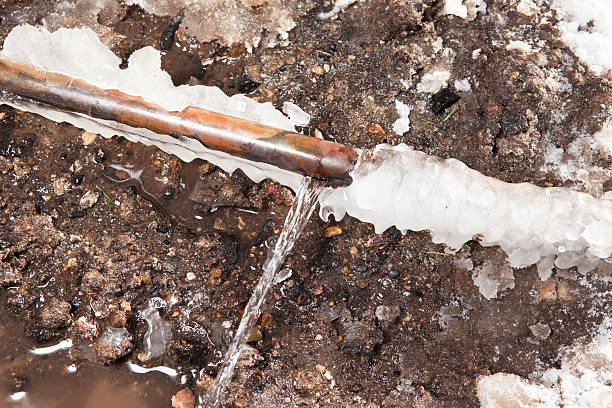rupture: (305, 167, 344, 188)
